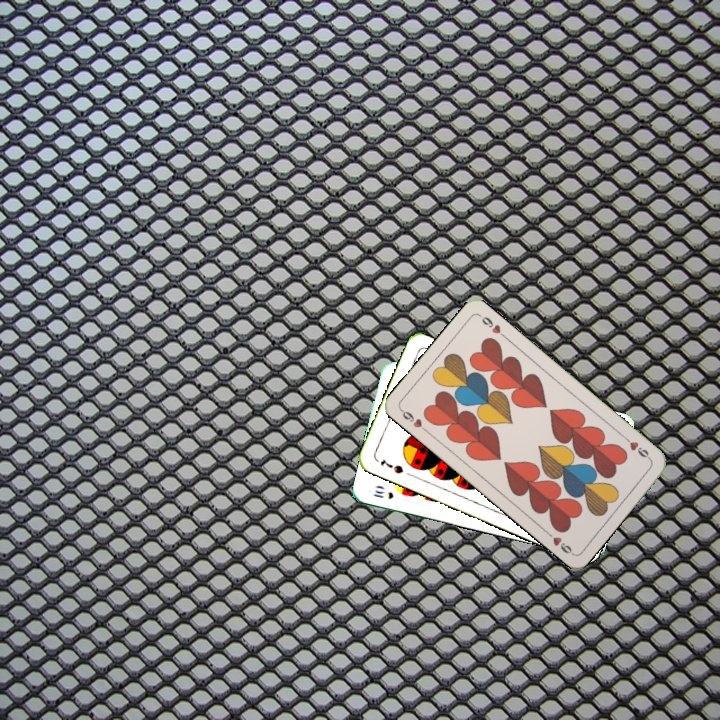H9: (620, 432, 653, 463), (396, 405, 430, 435)
S10: (369, 486, 396, 502)
S7: (377, 454, 406, 476)
